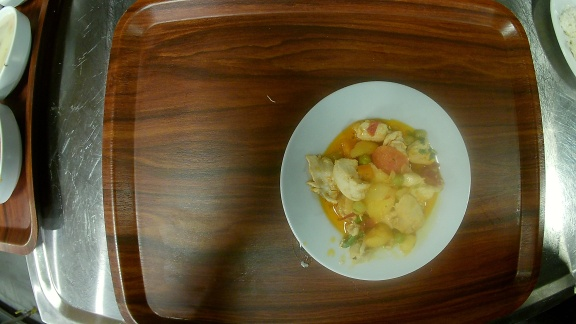bezelyelitavuk: (277, 79, 474, 283)
